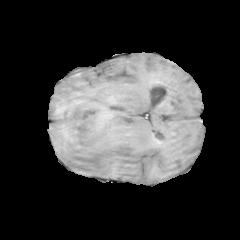glioma: (53, 106, 147, 173)
